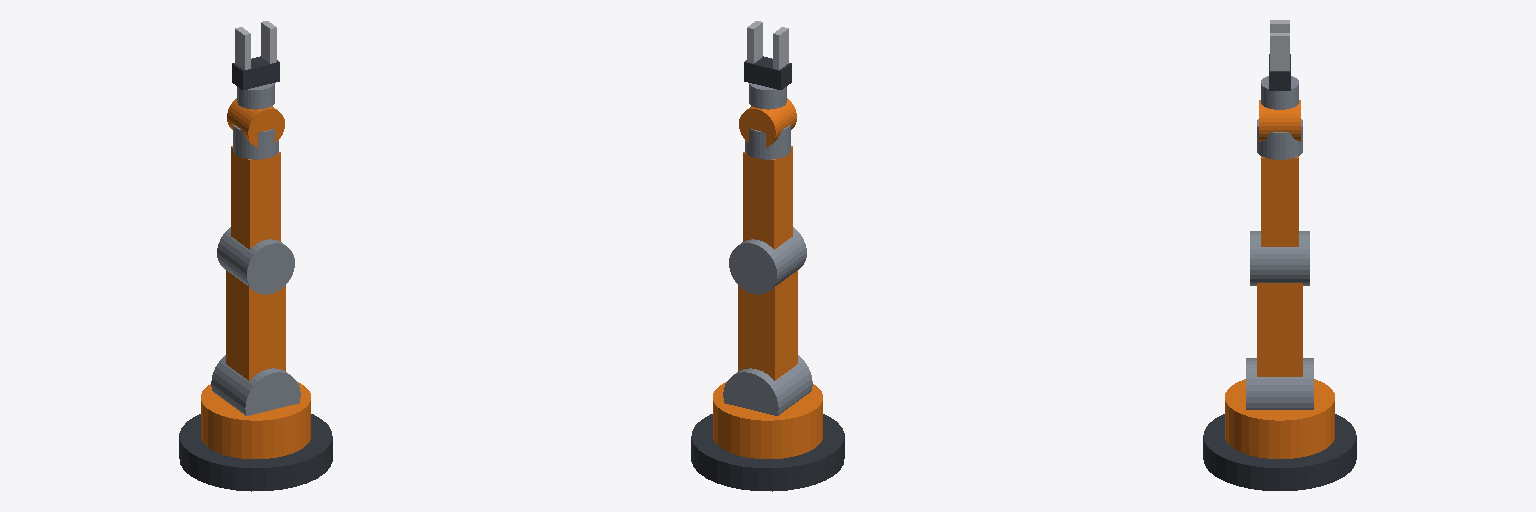
URDF robot description (demo_arm):
<?xml version="1.0"?>
<!--
  데모 6축 로봇 팔 + 그리퍼 — 박스와 원기둥만 사용.
  외부 메시 파일이 필요 없어서 엔진에 이미 있는 프리미티브로 그대로 그려진다.

  단위는 미터, 좌표계는 Z-up (URDF 표준 = 이 엔진과 동일).
  각 조인트의 <origin> 은 "부모 링크 원점에서 이 조인트까지" 이고,
  <axis> 는 그 조인트가 도는 축이다.

  구조:
    base (원판)
     └ 회전대(yaw, Z축)
        └ 어깨(pitch, Y축)
           └ 위팔
              └ 팔꿈치(pitch)
                 └ 아래팔
                    └ 손목1(roll, X축)
                       └ 손목2(pitch)
                          └ 손목3(roll) = 손목 플랜지
                             ├ 손가락 왼쪽 (prismatic — 벌리고 오므리기)
                             └ 손가락 오른쪽 (prismatic)
-->
<robot name="demo_arm">

  <!-- ── 받침대 ── -->
  <link name="base_link">
    <visual>
      <origin xyz="0 0 0.03"/>
      <geometry><cylinder radius="0.18" length="0.06"/></geometry>
      <material name="dark"><color rgba="0.25 0.27 0.30 1"/></material>
    </visual>
  </link>

  <!-- ── 회전대 (yaw) ── -->
  <link name="turntable">
    <visual>
      <origin xyz="0 0 0.05"/>
      <geometry><cylinder radius="0.13" length="0.10"/></geometry>
      <material name="orange"><color rgba="0.90 0.50 0.15 1"/></material>
    </visual>
  </link>
  <joint name="joint_base" type="revolute">
    <parent link="base_link"/>
    <child  link="turntable"/>
    <origin xyz="0 0 0.06"/>
    <axis   xyz="0 0 1"/>
    <limit lower="-3.14159" upper="3.14159"/>
  </joint>

  <!-- ── 어깨 (pitch) — 관절 축을 보이게 원기둥을 눕혀 둔다 ── -->
  <link name="shoulder">
    <visual>
      <origin xyz="0 0 0" rpy="1.5708 0 0"/>
      <geometry><cylinder radius="0.075" length="0.16"/></geometry>
      <material name="steel"><color rgba="0.55 0.58 0.62 1"/></material>
    </visual>
  </link>
  <joint name="joint_shoulder" type="revolute">
    <parent link="turntable"/>
    <child  link="shoulder"/>
    <origin xyz="0 0 0.12"/>
    <axis   xyz="0 1 0"/>
    <limit lower="-1.9" upper="1.9"/>
  </joint>

  <!-- ── 위팔 ── -->
  <link name="upper_arm">
    <visual>
      <origin xyz="0 0 0.17"/>
      <geometry><box size="0.10 0.11 0.34"/></geometry>
      <material name="orange2"><color rgba="0.90 0.50 0.15 1"/></material>
    </visual>
  </link>
  <joint name="joint_upper" type="fixed">
    <parent link="shoulder"/>
    <child  link="upper_arm"/>
    <origin xyz="0 0 0"/>
  </joint>

  <!-- ── 팔꿈치 (pitch) ── -->
  <link name="elbow">
    <visual>
      <origin xyz="0 0 0" rpy="1.5708 0 0"/>
      <geometry><cylinder radius="0.065" length="0.14"/></geometry>
      <material name="steel2"><color rgba="0.55 0.58 0.62 1"/></material>
    </visual>
  </link>
  <joint name="joint_elbow" type="revolute">
    <parent link="upper_arm"/>
    <child  link="elbow"/>
    <origin xyz="0 0 0.34"/>
    <axis   xyz="0 1 0"/>
    <limit lower="-2.5" upper="2.5"/>
  </joint>

  <!-- ── 아래팔 ── -->
  <link name="forearm">
    <visual>
      <origin xyz="0 0 0.14"/>
      <geometry><box size="0.085 0.09 0.28"/></geometry>
      <material name="orange3"><color rgba="0.90 0.50 0.15 1"/></material>
    </visual>
  </link>
  <joint name="joint_forearm" type="fixed">
    <parent link="elbow"/>
    <child  link="forearm"/>
    <origin xyz="0 0 0"/>
  </joint>

  <!-- ── 손목 1 (roll, 팔 축 회전) ── -->
  <link name="wrist_1">
    <visual>
      <origin xyz="0 0 0.035"/>
      <geometry><cylinder radius="0.055" length="0.07"/></geometry>
      <material name="steel3"><color rgba="0.55 0.58 0.62 1"/></material>
    </visual>
  </link>
  <joint name="joint_wrist_roll" type="revolute">
    <parent link="forearm"/>
    <child  link="wrist_1"/>
    <origin xyz="0 0 0.28"/>
    <axis   xyz="0 0 1"/>
    <limit lower="-3.14159" upper="3.14159"/>
  </joint>

  <!-- ── 손목 2 (pitch) ── -->
  <link name="wrist_2">
    <visual>
      <origin xyz="0 0 0" rpy="1.5708 0 0"/>
      <geometry><cylinder radius="0.05" length="0.10"/></geometry>
      <material name="orange4"><color rgba="0.90 0.50 0.15 1"/></material>
    </visual>
  </link>
  <joint name="joint_wrist_pitch" type="revolute">
    <parent link="wrist_1"/>
    <child  link="wrist_2"/>
    <origin xyz="0 0 0.075"/>
    <axis   xyz="0 1 0"/>
    <limit lower="-2.0" upper="2.0"/>
  </joint>

  <!-- ── 손목 3 (roll) = 플랜지 ── -->
  <link name="flange">
    <visual>
      <origin xyz="0 0 0.025"/>
      <geometry><cylinder radius="0.045" length="0.05"/></geometry>
      <material name="steel4"><color rgba="0.55 0.58 0.62 1"/></material>
    </visual>
  </link>
  <joint name="joint_flange" type="revolute">
    <parent link="wrist_2"/>
    <child  link="flange"/>
    <origin xyz="0 0 0.05"/>
    <axis   xyz="0 0 1"/>
    <limit lower="-3.14159" upper="3.14159"/>
  </joint>

  <!-- ── 그리퍼 몸통 ── -->
  <link name="gripper_base">
    <visual>
      <origin xyz="0 0 0.025"/>
      <geometry><box size="0.10 0.05 0.05"/></geometry>
      <material name="dark2"><color rgba="0.25 0.27 0.30 1"/></material>
    </visual>
  </link>
  <joint name="joint_gripper" type="fixed">
    <parent link="flange"/>
    <child  link="gripper_base"/>
    <origin xyz="0 0 0.05"/>
  </joint>

  <!-- ── 손가락 2개 (prismatic — 벌리고 오므리기) ── -->
  <link name="finger_left">
    <visual>
      <origin xyz="0 0 0.045"/>
      <geometry><box size="0.018 0.045 0.09"/></geometry>
      <material name="gray"><color rgba="0.70 0.72 0.75 1"/></material>
    </visual>
  </link>
  <joint name="joint_finger_left" type="prismatic">
    <parent link="gripper_base"/>
    <child  link="finger_left"/>
    <origin xyz="-0.035 0 0.05"/>
    <axis   xyz="-1 0 0"/>
    <limit lower="0.0" upper="0.03"/>
  </joint>

  <link name="finger_right">
    <visual>
      <origin xyz="0 0 0.045"/>
      <geometry><box size="0.018 0.045 0.09"/></geometry>
      <material name="gray2"><color rgba="0.70 0.72 0.75 1"/></material>
    </visual>
  </link>
  <joint name="joint_finger_right" type="prismatic">
    <parent link="gripper_base"/>
    <child  link="finger_right"/>
    <origin xyz="0.035 0 0.05"/>
    <axis   xyz="1 0 0"/>
    <limit lower="0.0" upper="0.03"/>
  </joint>

</robot>

--- Render facts (derived) ---
3 views of the same robot in one strip: view 1: azimuth 30°, elevation 25°; view 2: azimuth 150°, elevation 25°; view 3: azimuth 270°, elevation 25° (orthographic).
Robot: demo_arm — 12 links, 11 joints (6 revolute, 2 prismatic, 3 fixed); root link base_link; default pose: every joint at zero.
Links seen in each view (by area): view 1: base_link, turntable, upper_arm, forearm, elbow, shoulder, wrist_2, gripper_base, wrist_1, flange, finger_left, finger_right; view 2: base_link, turntable, upper_arm, forearm, elbow, shoulder, wrist_2, gripper_base, wrist_1, flange, finger_left, finger_right; view 3: base_link, turntable, upper_arm, forearm, shoulder, elbow, wrist_2, wrist_1, flange, finger_right.
Link boxes in pixels (box(x1,y1,x2,y2)): base_link: box(179, 414, 332, 491); turntable: box(201, 382, 310, 458); upper_arm: box(226, 270, 285, 380); forearm: box(231, 146, 280, 249); elbow: box(217, 227, 294, 294); shoulder: box(211, 355, 300, 415); wrist_2: box(227, 98, 284, 147); gripper_base: box(232, 56, 279, 89); wrist_1: box(233, 124, 278, 159); flange: box(237, 83, 274, 109); finger_left: box(235, 27, 250, 69); finger_right: box(261, 21, 276, 63); base_link: box(691, 414, 844, 491); turntable: box(713, 382, 822, 458); upper_arm: box(738, 270, 797, 380); forearm: box(743, 146, 792, 249); elbow: box(729, 227, 806, 294); shoulder: box(723, 355, 812, 415); wrist_2: box(739, 98, 796, 147); gripper_base: box(744, 56, 791, 89); wrist_1: box(745, 124, 790, 159); flange: box(749, 83, 786, 109); finger_left: box(773, 27, 788, 69); finger_right: box(747, 21, 762, 63); base_link: box(1203, 414, 1356, 490); turntable: box(1225, 379, 1334, 458); upper_arm: box(1257, 283, 1302, 376); forearm: box(1261, 156, 1298, 246); shoulder: box(1246, 358, 1313, 409); elbow: box(1250, 231, 1309, 285); wrist_2: box(1259, 100, 1300, 141); wrist_1: box(1257, 119, 1302, 159); flange: box(1261, 76, 1298, 109); finger_right: box(1270, 33, 1289, 70).
Bounding box of the posed robot: 0.36 × 0.36 × 1.11 m (x, y, z).
Geometry: primitives only (box / cylinder / sphere), no mesh files.
